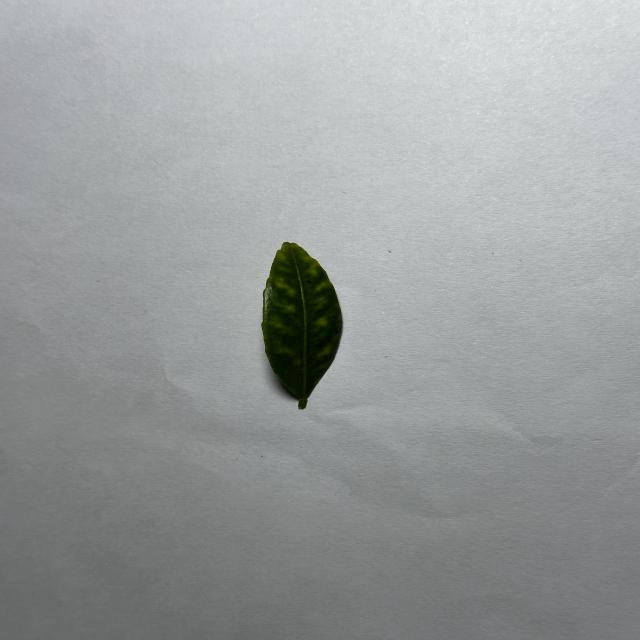greening: (262, 242, 342, 409)
